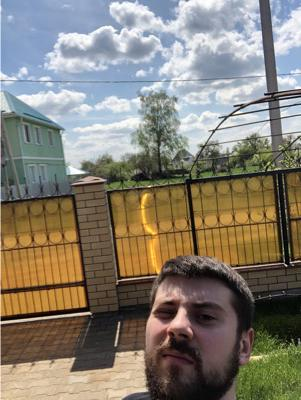without_mask: (146, 289, 234, 400)
